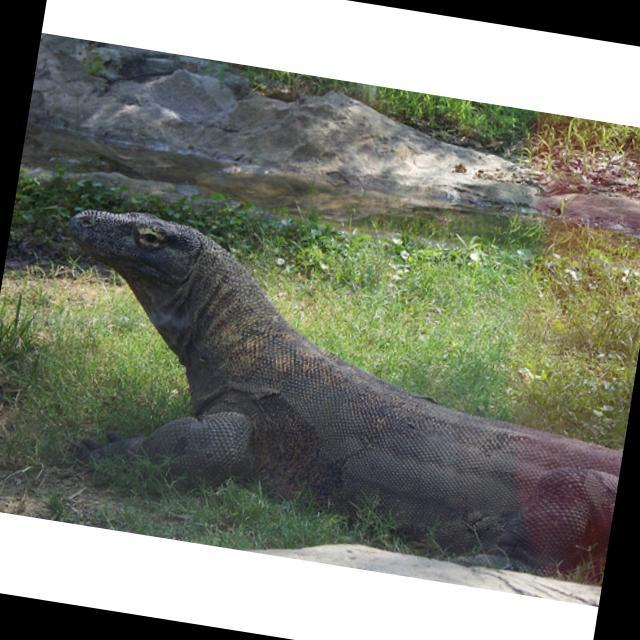KomodoDragon: (21, 196, 640, 587)
